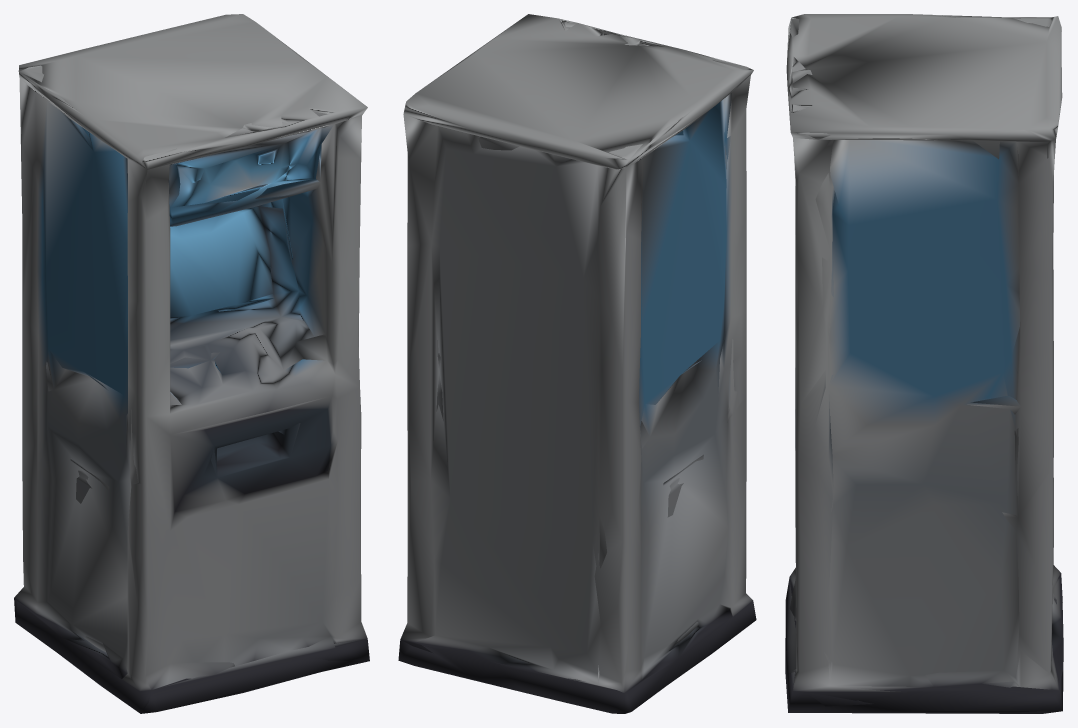
File: gen3d-atm-machine-lod0.glb
3 views of the same model, side by side, from view 1: azimuth 30°, elevation 25°; view 2: azimuth 150°, elevation 25°; view 3: azimuth 270°, elevation 25° (orthographic). The views are drawn at different scales.
Parts seen in each view (by area): view 1: part_0; view 2: part_0; view 3: part_0.
Part boxes in pixels (x1,y1,x2,y2): part_0: [14, 14, 369, 713]; part_0: [398, 14, 756, 713]; part_0: [785, 14, 1063, 713].
Bounding box in the file's own units: 0.4336 × 1 × 0.4307.
